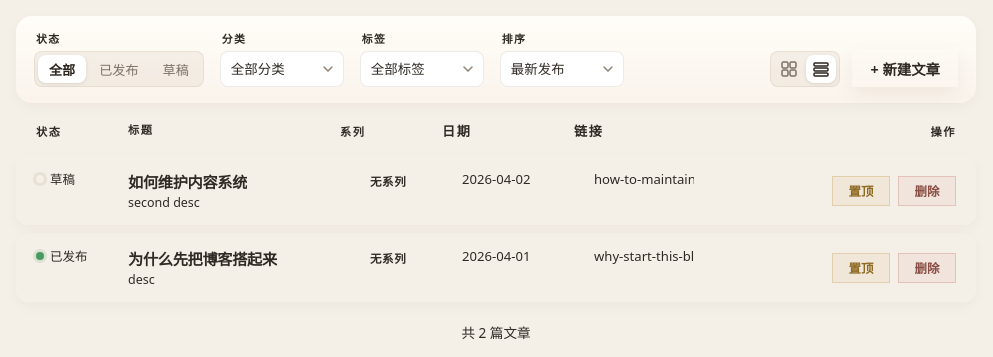
Scenario: post dashboard › filters the post list through the custom category selector
The image size is (993, 357).
Expected: the text "为什么先把博客搭起来" is shown, [128, 247, 277, 269]
Expected: the text "如何维护内容系统" is shown, [128, 170, 247, 192]
Click the button with aria-label "筛选分类": coordinates (282, 69) [220, 51, 344, 87]
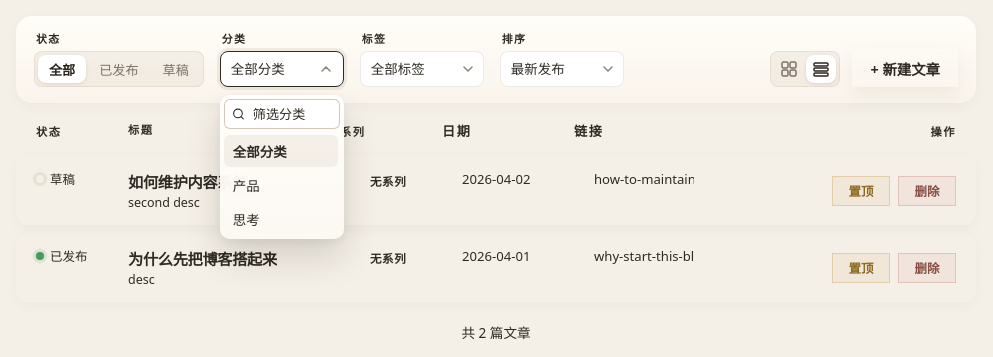
Click the option "思考": coordinates (246, 220) [233, 211, 260, 229]
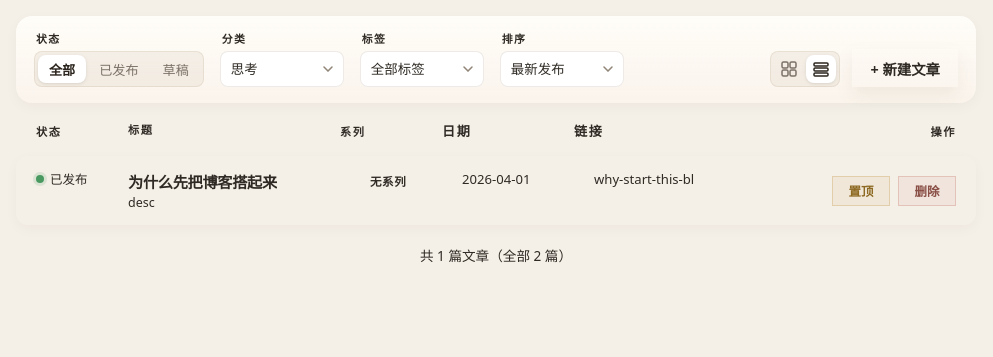
Expected: the text "为什么先把博客搭起来" is shown, [128, 170, 277, 192]
Now the button "如何维护内容系统" is gone
Now the text "共 1 篇文章（全部 2 篇）" is shown, box [420, 246, 572, 265]
